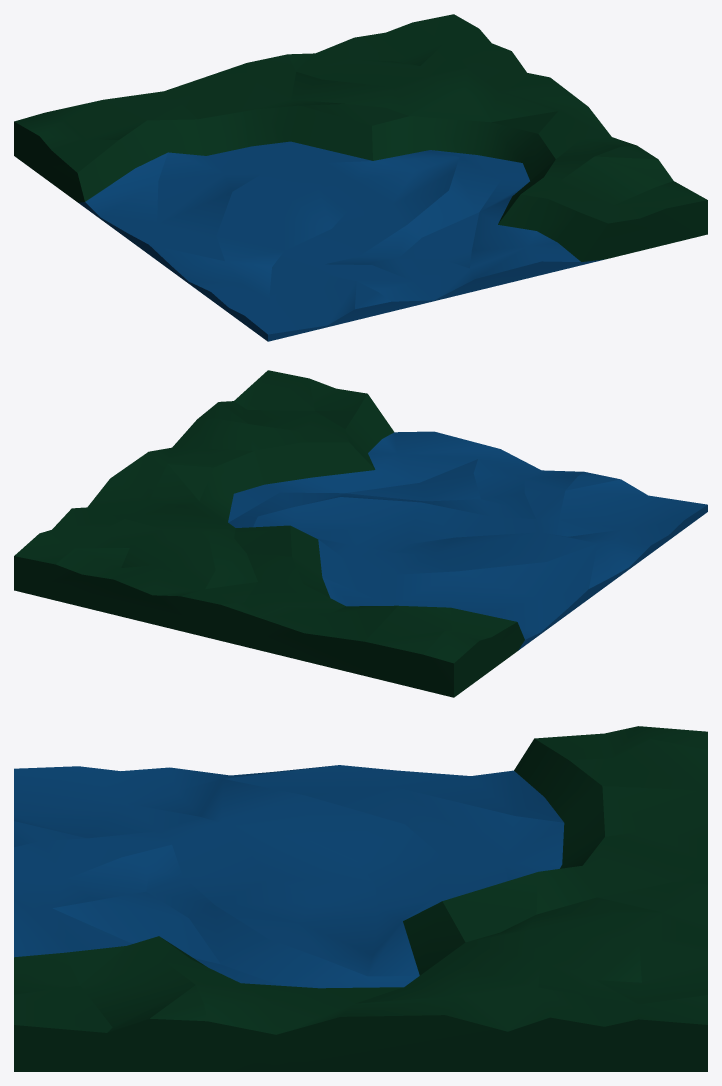
Rendered from Water_Corner_Internal_RU.fbx.
The picture shows the model from 3 angles, top to bottom: view 1: azimuth 30°, elevation 25°; view 2: azimuth 150°, elevation 25°; view 3: azimuth 270°, elevation 25°; orthographic projection. The views are drawn at different scales.
Visible parts, largest first — view 1: Water_Corner_Internal_RU; view 2: Water_Corner_Internal_RU; view 3: Water_Corner_Internal_RU.
Part boxes in pixels (x1,y1,x2,y2): Water_Corner_Internal_RU: (14, 14, 707, 341); Water_Corner_Internal_RU: (14, 370, 707, 697); Water_Corner_Internal_RU: (14, 726, 707, 1071).
Size of the model in its own units: 147 by 13.97 by 147.
